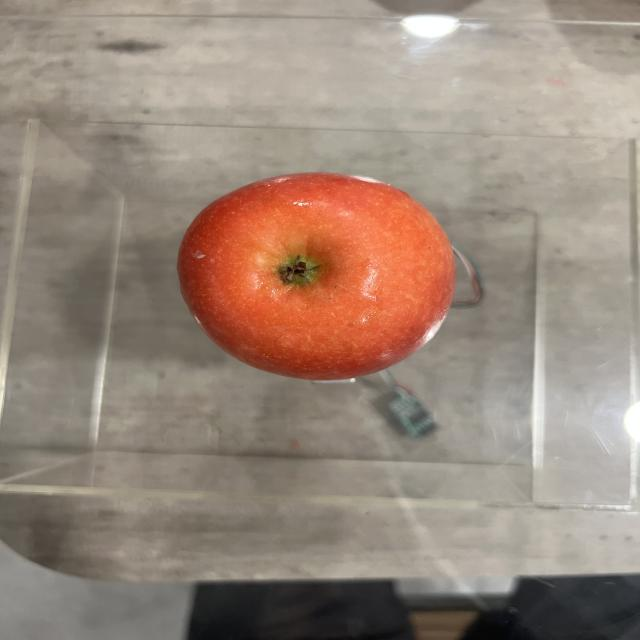red apple: (183, 170, 452, 380)
